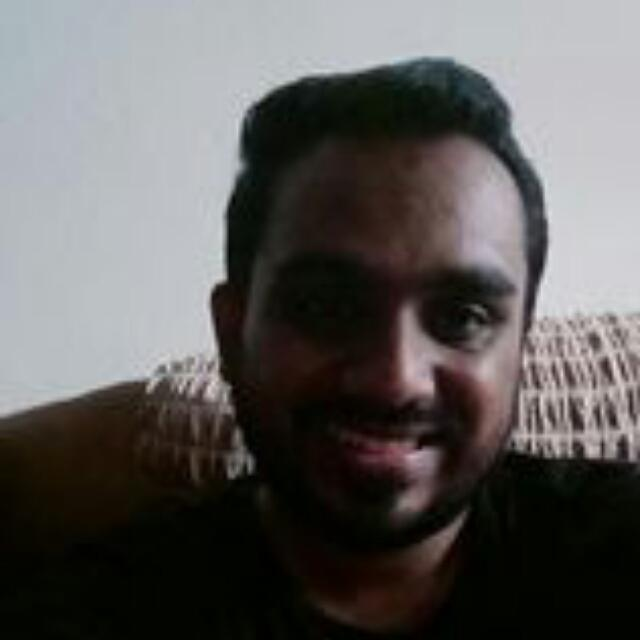Happy: (203, 137, 572, 589)
